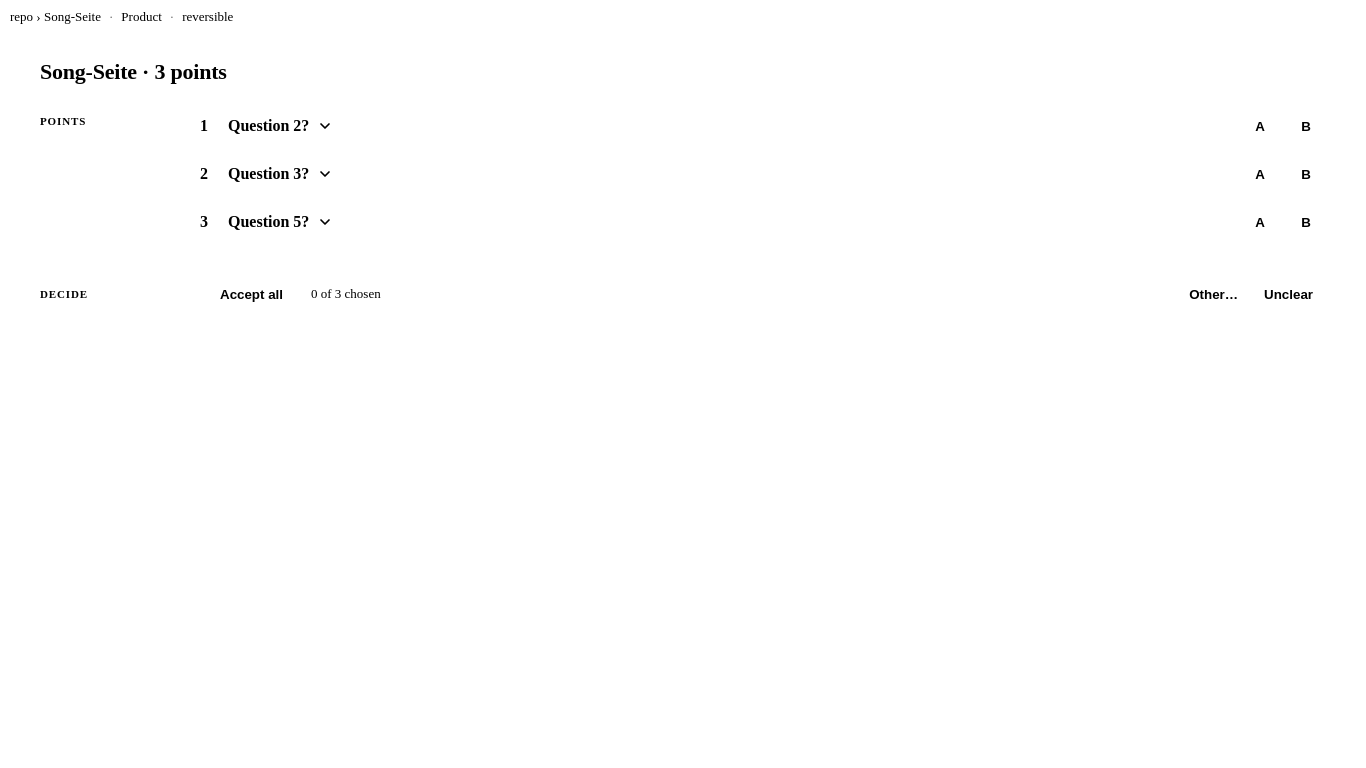
Test case: [ABRD-85] activating a point opens it, and another point closes the first
The image size is (1366, 768).
Click the button "1 Question 2?".
click(271, 126)  # box [200, 117, 1228, 135]
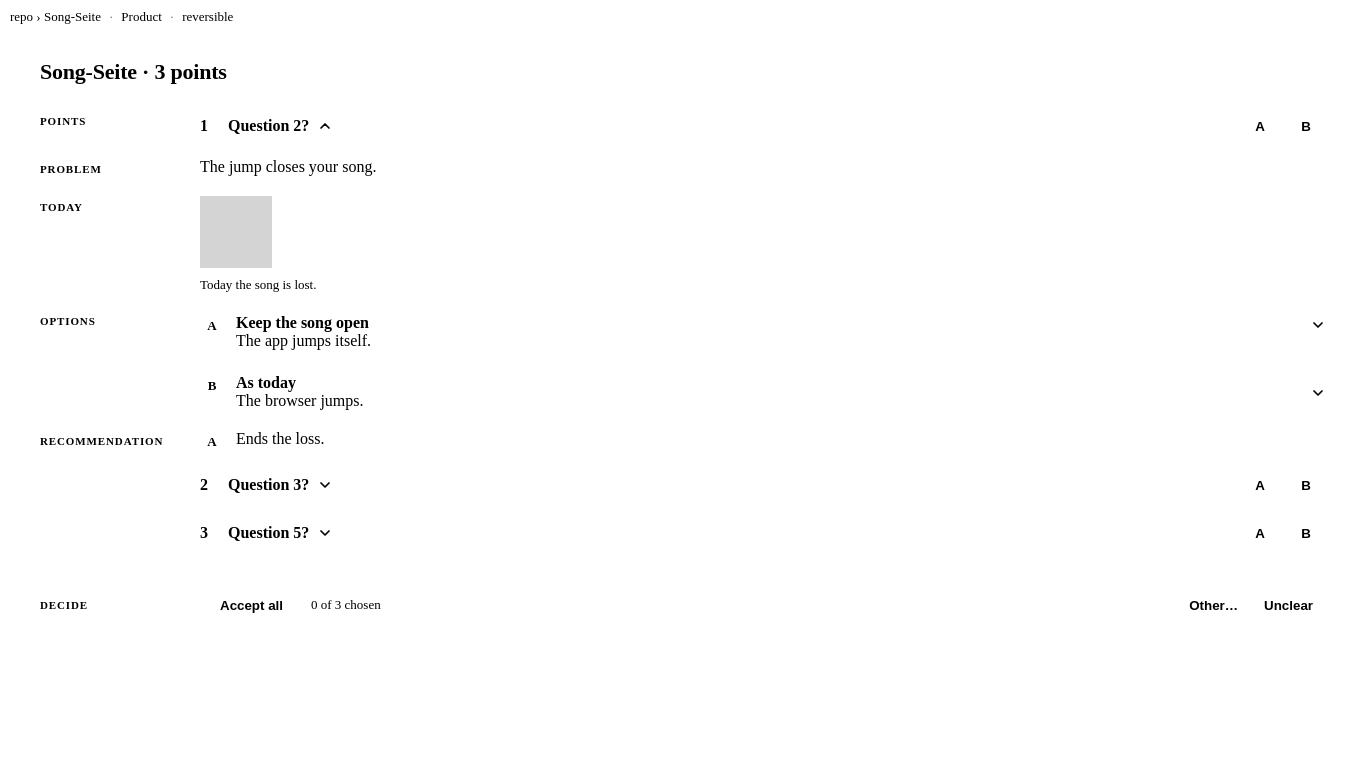
Expected: the button "1 Question 2?" is expanded, [200, 117, 1228, 135]
Expected: the text "Problem" is shown once, [40, 163, 102, 175]
Click the button "2 Question 3?".
click(271, 484)  # box [200, 476, 1228, 494]
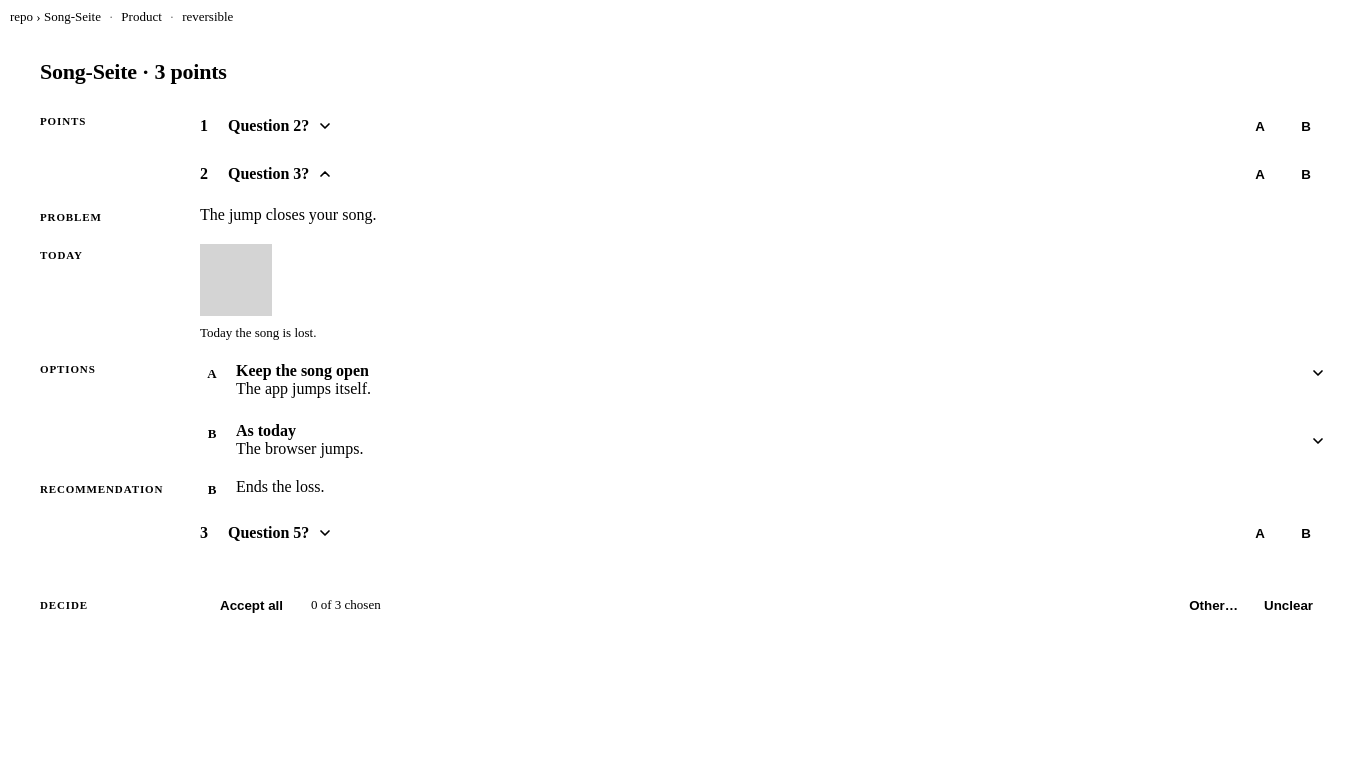
Expected: the button "1 Question 2?" is collapsed, [200, 117, 1228, 135]
Expected: the button "2 Question 3?" is expanded, [200, 165, 1228, 183]
